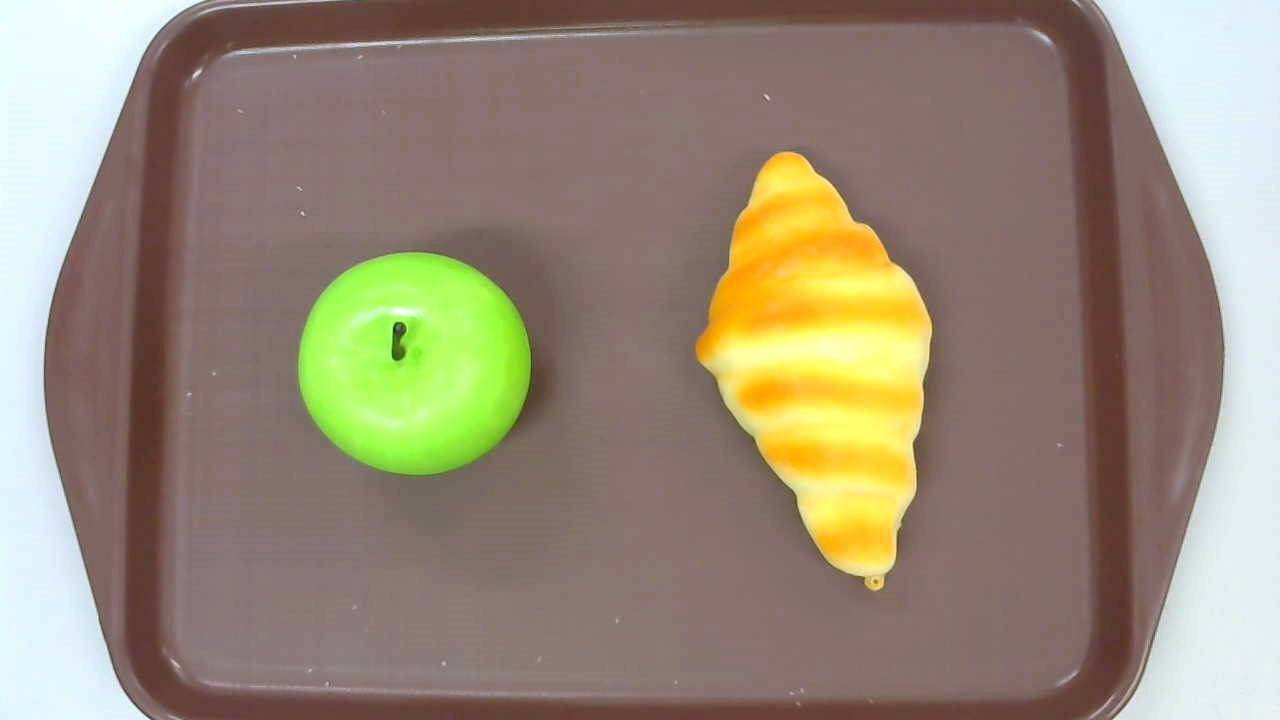croissant: (694, 149, 933, 592)
green apple: (297, 251, 531, 478)
